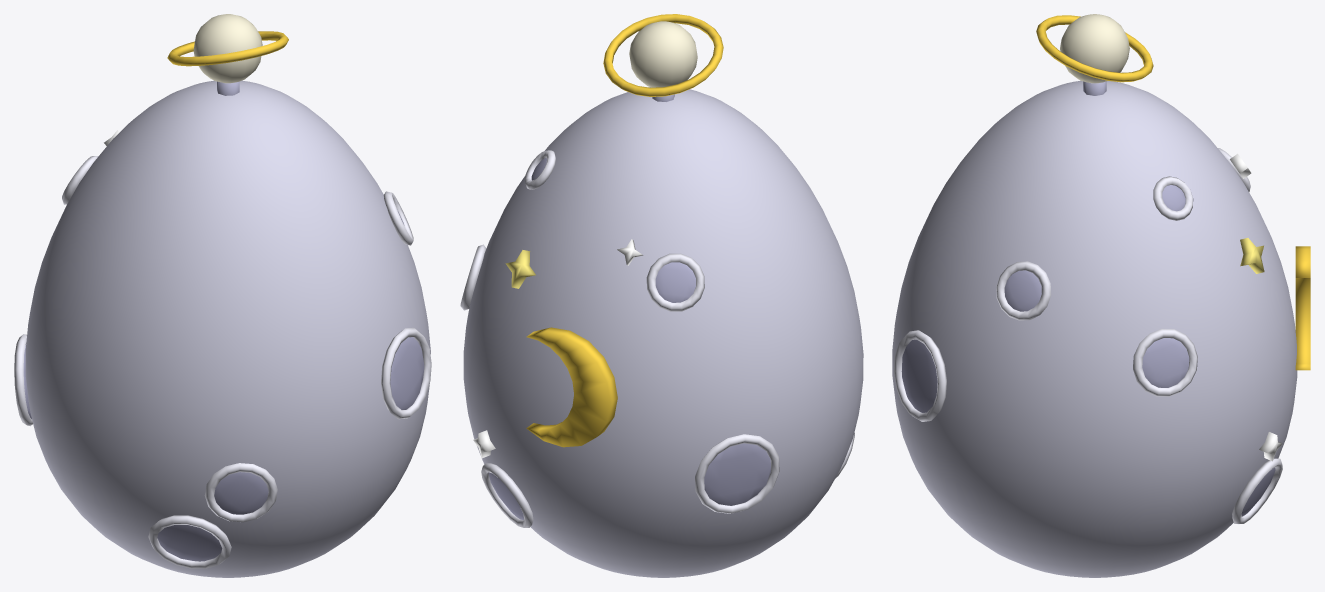
File: egg_moon.fbx
3 views of the same model, side by side, from view 1: azimuth 30°, elevation 25°; view 2: azimuth 150°, elevation 25°; view 3: azimuth 270°, elevation 25° (orthographic).
Parts seen in each view (by area): view 1: egg_moon; view 2: egg_moon; view 3: egg_moon.
Part boxes in pixels (<box>): egg_moon: <box>14,14,431,577</box>; egg_moon: <box>460,14,863,577</box>; egg_moon: <box>892,14,1310,577</box>.
Size of the model in its own units: 4.86 by 7.17 by 5.02.
Materials: 1 (1 with a texture image).
